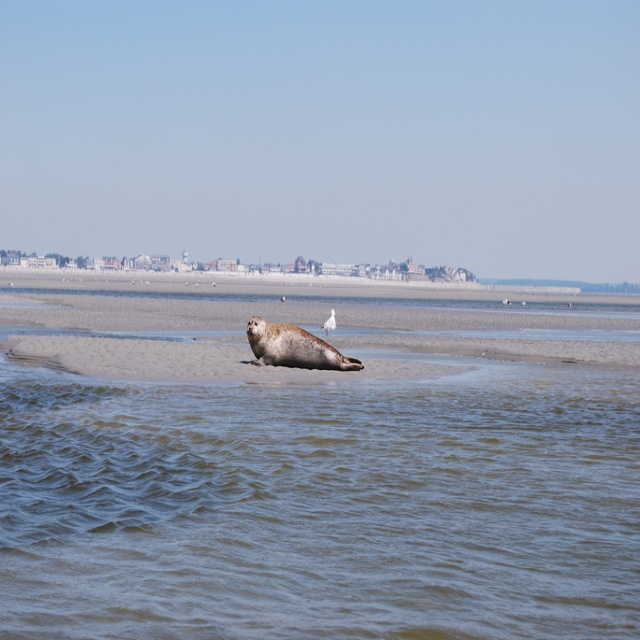Harbor seal: (233, 308, 360, 382)
